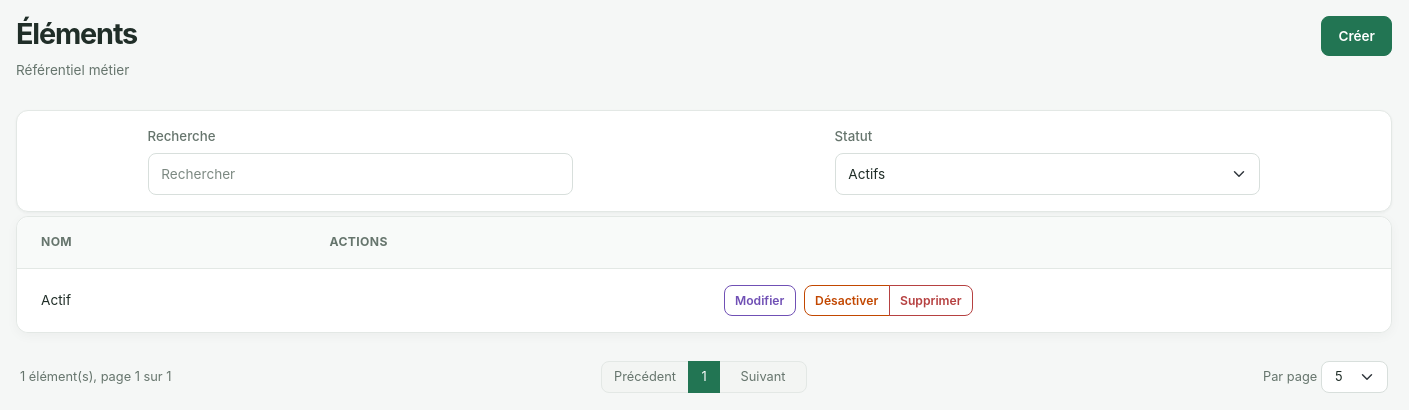
Scenario: ReferencePage pagination › applies a client-side status filter inside the shared panel
expect the text "Actif" is shown: met, box [17,268,306,332]
expect the text "Inactif" is not shown: met
Select "Inactifs" in the dropdown named "Filtrer par statut" at (1048, 174), box [834,153,1260,195]
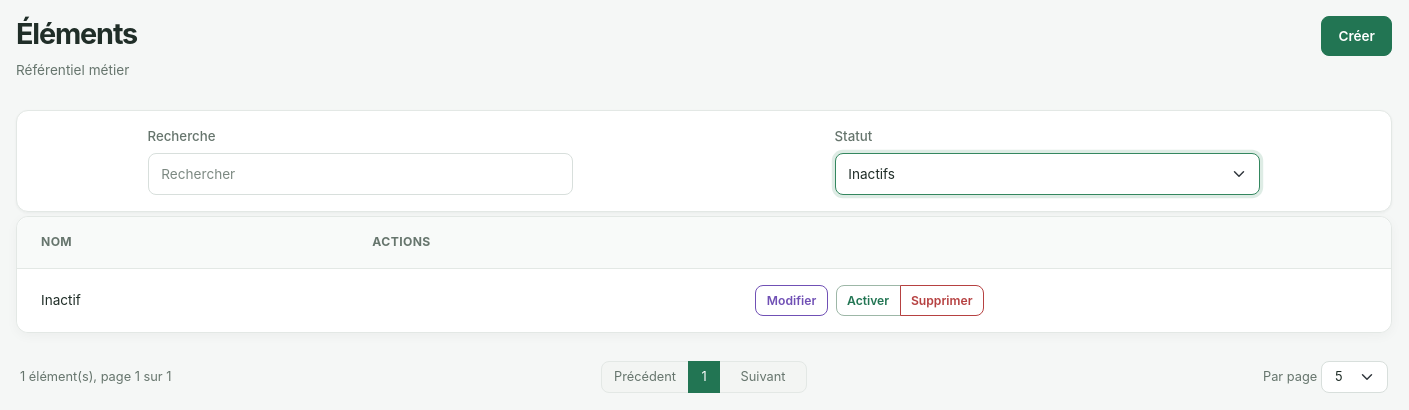
expect the text "Inactif" is shown: met, box [17,268,348,332]
